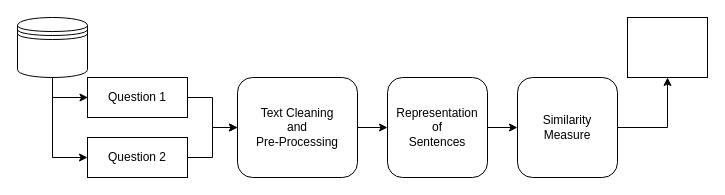
Image size: 725x195. Some labels were removed from this diagram. Each missing label, with the centre of its shape:
"DataSet" goes at point 52,47.
"Is Duplicate" goes at point 667,47.
